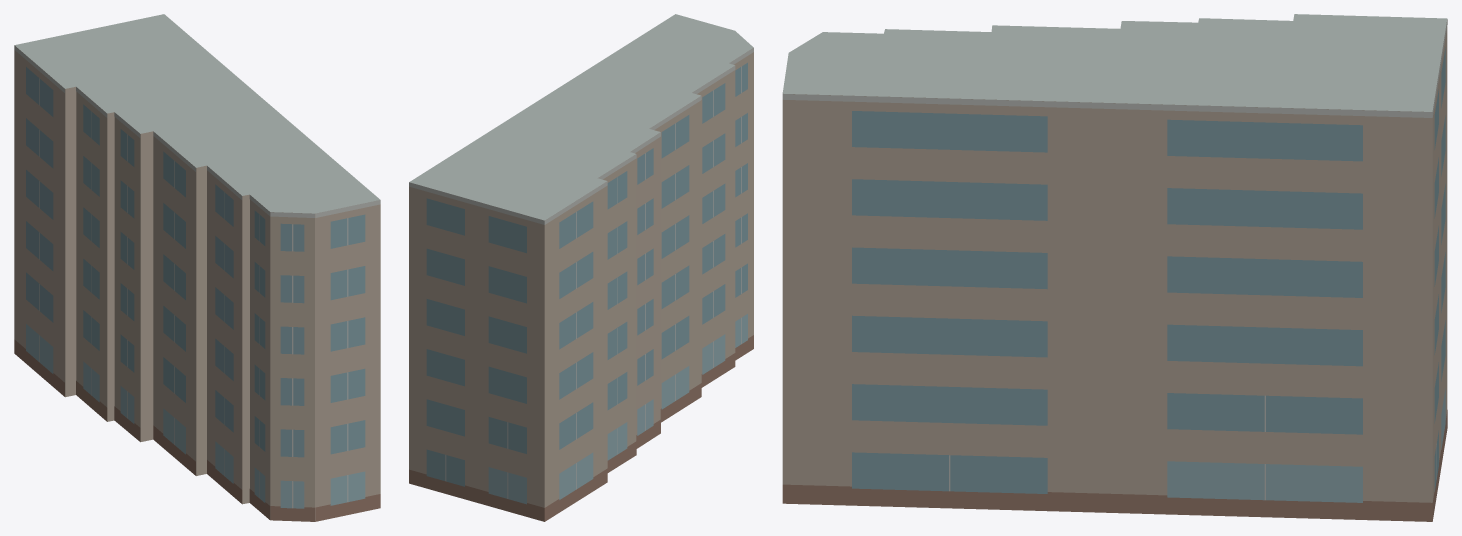
The model's file is survey-upis-32639381.glb.
3 renders of one model, left to right at view 1: azimuth 30°, elevation 25°; view 2: azimuth 150°, elevation 25°; view 3: azimuth 270°, elevation 25°, orthographic. The views are drawn at different scales.
Parts seen in each view (by area): view 1: survey-upis-32639381.tmp; view 2: survey-upis-32639381.tmp; view 3: survey-upis-32639381.tmp.
Boxes of the visible parts, <box> form: survey-upis-32639381.tmp: <box>14,14,380,521</box>; survey-upis-32639381.tmp: <box>409,14,753,521</box>; survey-upis-32639381.tmp: <box>782,14,1447,521</box>.
Size of the model in its own units: 8.52 by 16.6 by 24.42.
